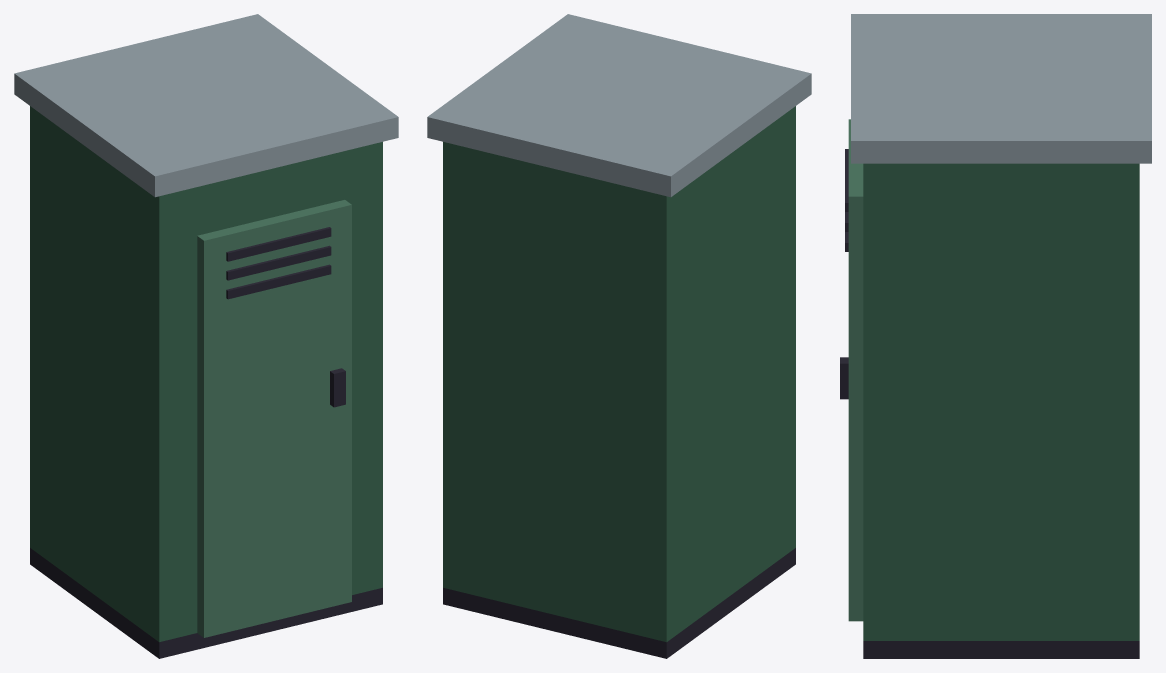
The model's file is porta-toilet.glb.
3 renders of one model, left to right at view 1: azimuth 30°, elevation 25°; view 2: azimuth 150°, elevation 25°; view 3: azimuth 270°, elevation 25°, orthographic. The views are drawn at different scales.
Parts seen in each view (by area): view 1: porta-toilet; view 2: porta-toilet; view 3: porta-toilet.
Part boxes in pixels (left/top/right/bottom): porta-toilet: left=14, top=14, right=398, bottom=658; porta-toilet: left=427, top=14, right=811, bottom=658; porta-toilet: left=840, top=14, right=1151, bottom=658.
Size of the model in its own units: 1.22 by 2.34 by 1.26.
